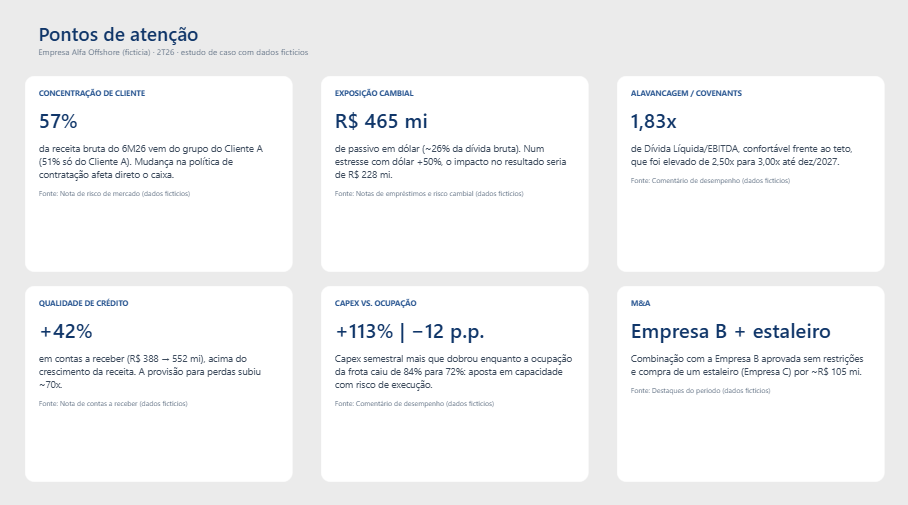

What the dashboard file says about the page in this screenshot:
{"tool":"powerbi","page":{"name":"Pontos de Atenção","canvas":[1920,1080],"ordinal":2},"visuals":[{"type":"textbox","box":[60.3,30.1,1800.8,139.1],"z":1000},{"type":"textbox","box":[60,170,560,410],"z":2000},{"type":"textbox","box":[680,170,560,410],"z":2100},{"type":"textbox","box":[1300,170,560,410],"z":2200},{"type":"textbox","box":[60,610,560,410],"z":2300},{"type":"textbox","box":[680,610,560,410],"z":2400},{"type":"textbox","box":[1300,610,560,410],"z":2500},{"type":"textbox","box":[60,1030,1800,40],"z":9000}]}

Visuals, with their boxes in screenshot pixels (x1, y1, x2, y2), scaled from the page's 1920x1080 canvas onto the 908x505 screenshot:
textbox: rect(29, 14, 880, 79)
textbox: rect(28, 79, 293, 271)
textbox: rect(322, 79, 586, 271)
textbox: rect(615, 79, 880, 271)
textbox: rect(28, 285, 293, 477)
textbox: rect(322, 285, 586, 477)
textbox: rect(615, 285, 880, 477)
textbox: rect(28, 482, 880, 500)
